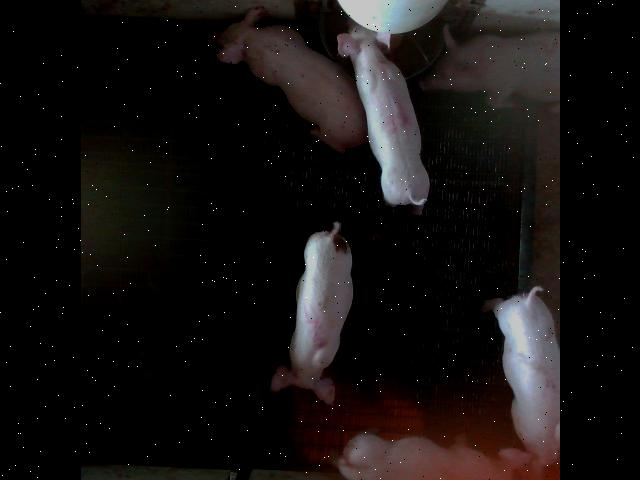pig-4: (336, 25, 429, 214)
pig-5: (269, 221, 352, 405)
